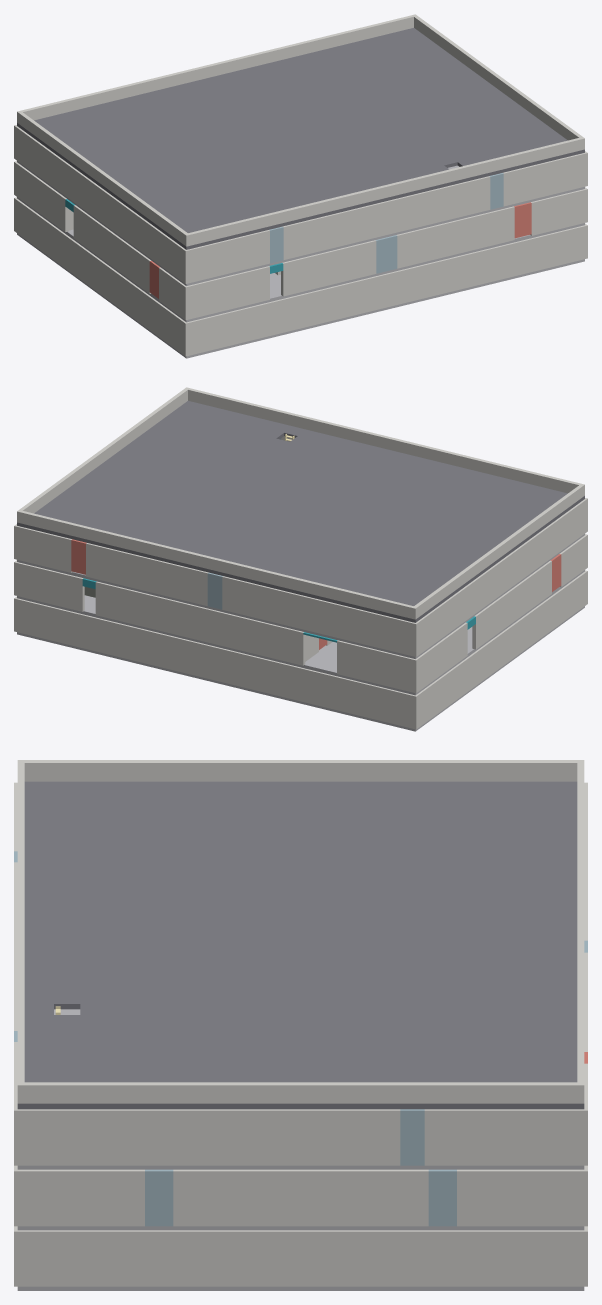
The model's file is deli_a02.glb.
3 views of the same model, one above another, from view 1: azimuth 30°, elevation 25°; view 2: azimuth 150°, elevation 25°; view 3: azimuth 270°, elevation 25° (orthographic). The views are drawn at different scales.
Parts seen in each view (by area): view 1: slab_2_t1_2, slab_2_t1_6, slab_2_t2_5, slab_2_t3_2, slab_2_t4_1, slab_2_t4_5, slab_2_t1_5, slab_2_t2_1, slab_2_t3_4, slab_2_t3_6, slab_2_t4_2, slab_2_t1_1 (+136 smaller); view 2: slab_2_t1_1, slab_2_t1_5, slab_2_t2_2, slab_2_t3_5, slab_2_t4_2, slab_2_t4_6, slab_2_t1_2, slab_2_t2_4, slab_2_t2_6, slab_2_t3_1, slab_2_t4_5, slab_2_t1_3 (+137 smaller); view 3: slab_2_t1_2, slab_2_t1_5, slab_2_t4_2, slab_2_t4_5, slab_2_t2_2, slab_2_t2_5, slab_2_t3_2, slab_2_t3_5, slab_2_t1_1, slab_2_t1_3, slab_2_t1_4, slab_2_t1_6 (+91 smaller).
Boxes of the visible parts, bbox=[...] form: slab_2_t1_2: bbox=[230, 169, 307, 201]; slab_2_t1_6: bbox=[429, 120, 506, 152]; slab_2_t2_5: bbox=[351, 111, 428, 144]; slab_2_t3_2: bbox=[173, 127, 250, 160]; slab_2_t4_1: bbox=[95, 119, 172, 151]; slab_2_t4_5: bbox=[294, 70, 371, 102]; slab_2_t1_5: bbox=[379, 132, 456, 164]; slab_2_t2_1: bbox=[152, 160, 228, 192]; slab_2_t3_4: bbox=[273, 103, 350, 135]; slab_2_t3_6: bbox=[373, 79, 449, 111]; slab_2_t4_2: bbox=[145, 107, 222, 139]; slab_2_t1_1: bbox=[180, 181, 257, 213]; slab_2_t1_1: bbox=[429, 492, 506, 524]; slab_2_t1_5: bbox=[230, 443, 307, 475]; slab_2_t2_2: bbox=[351, 500, 428, 533]; slab_2_t3_5: bbox=[173, 484, 250, 517]; slab_2_t4_2: bbox=[294, 542, 371, 574]; slab_2_t4_6: bbox=[95, 493, 172, 525]; slab_2_t1_2: bbox=[379, 480, 456, 512]; slab_2_t2_4: bbox=[251, 476, 328, 508]; slab_2_t2_6: bbox=[152, 452, 228, 484]; slab_2_t3_1: bbox=[373, 533, 449, 565]; slab_2_t4_5: bbox=[145, 505, 222, 537]; slab_2_t1_3: bbox=[329, 467, 406, 500]; slab_2_t1_2: bbox=[112, 859, 206, 900]; slab_2_t1_5: bbox=[112, 981, 206, 1022]; slab_2_t4_2: bbox=[395, 859, 489, 900]; slab_2_t4_5: bbox=[395, 981, 489, 1022]; slab_2_t2_2: bbox=[206, 859, 300, 900]; slab_2_t2_5: bbox=[206, 981, 300, 1022]; slab_2_t3_2: bbox=[301, 859, 395, 900]; slab_2_t3_5: bbox=[301, 981, 395, 1022]; slab_2_t1_1: bbox=[112, 819, 206, 859]; slab_2_t1_3: bbox=[112, 900, 206, 940]; slab_2_t1_4: bbox=[112, 941, 206, 981]; slab_2_t1_6: bbox=[112, 1022, 206, 1062].
Size of what is drawn, in the model's own units: 38.35 by 11.2 by 28.35.
